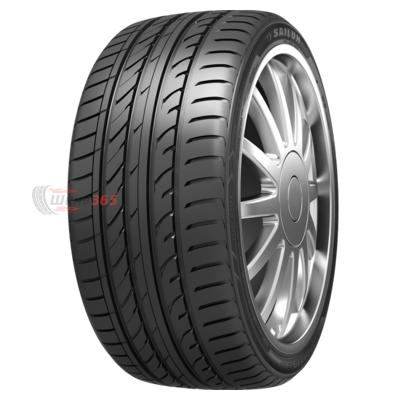objects: (32, 184, 118, 215)
